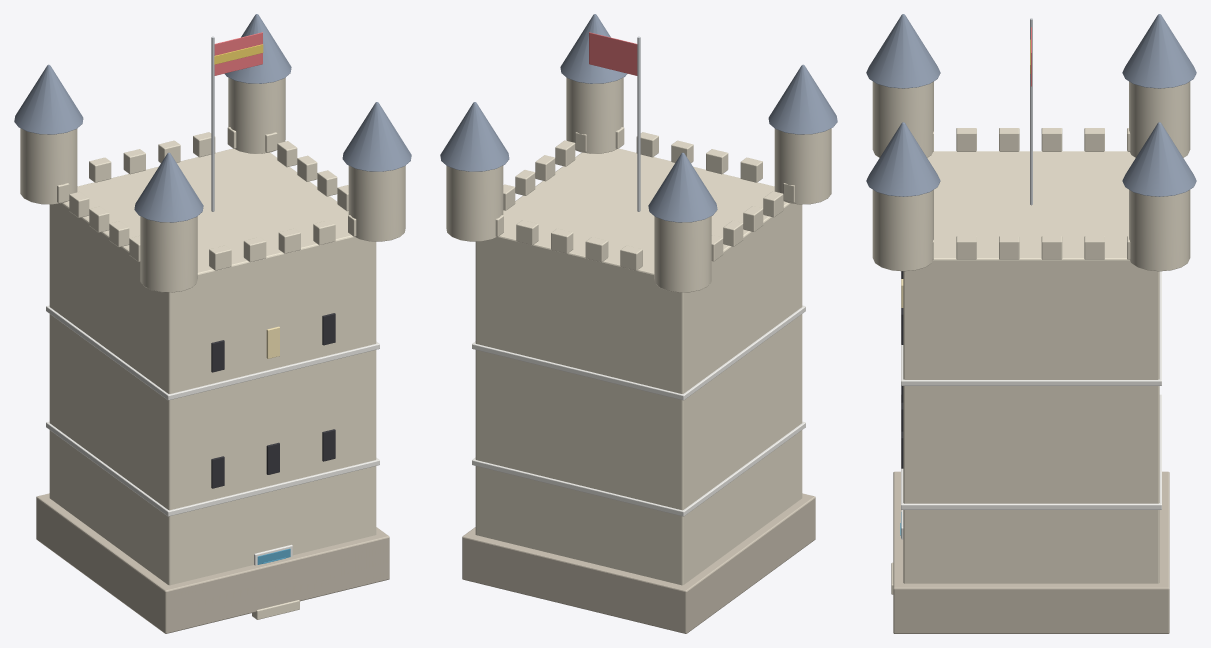
File: castle_keep.fbx
3 views of the same model, side by side, from view 1: azimuth 30°, elevation 25°; view 2: azimuth 150°, elevation 25°; view 3: azimuth 270°, elevation 25° (orthographic). The views are drawn at different scales.
Visible parts, largest first — view 1: Visual; view 2: Visual; view 3: Visual.
Boxes of the visible parts, box(x1,y1,x2,y2) form: Visual: box(14, 14, 411, 633); Visual: box(440, 14, 837, 633); Visual: box(866, 14, 1196, 633).
Size of what is drawn, in the model's own units: 1936 by 3650 by 1936.
